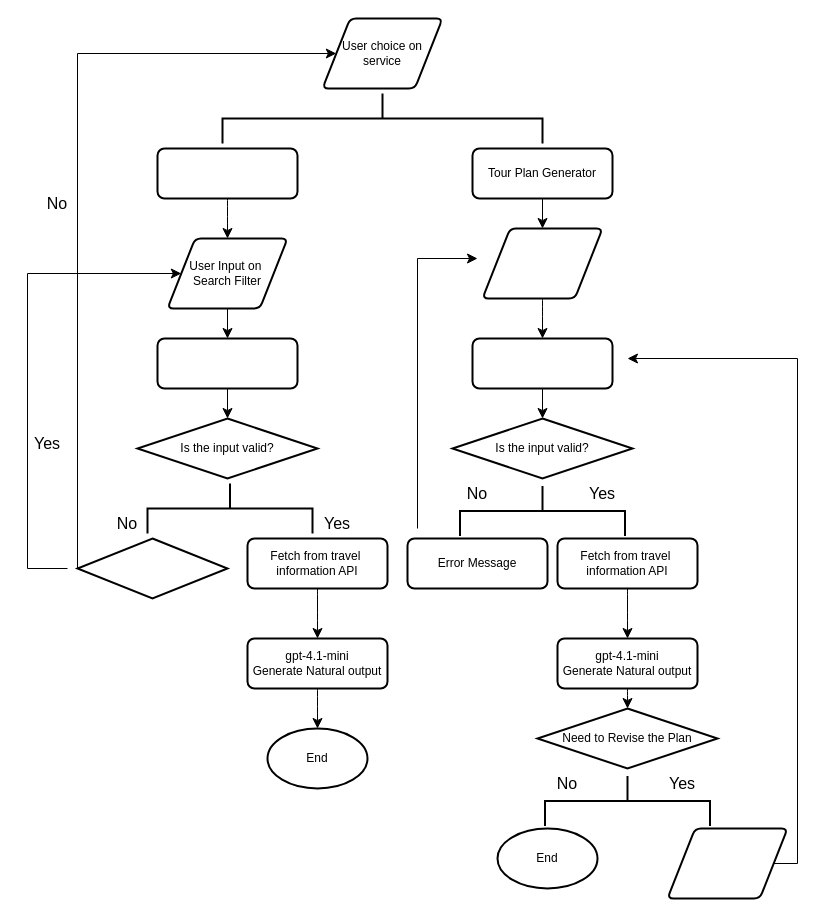
The diagram is 825 pixels wide and 916 high, and some of its shapes have lost their labels. The shapes that lost their labels are listed below. From the top down, each one's centre as x and y in pixels, then its label:
At (227,173): "Travel Information Search".
At (542,263): "User requirement".
At (227,363): "gpt-4.1-mini (input validation".
At (542,363): "gpt-4.1-mini: user input validation and parsing".
At (152,568): "If user want to re-input".
At (727,863): "User revision and other requirements".
